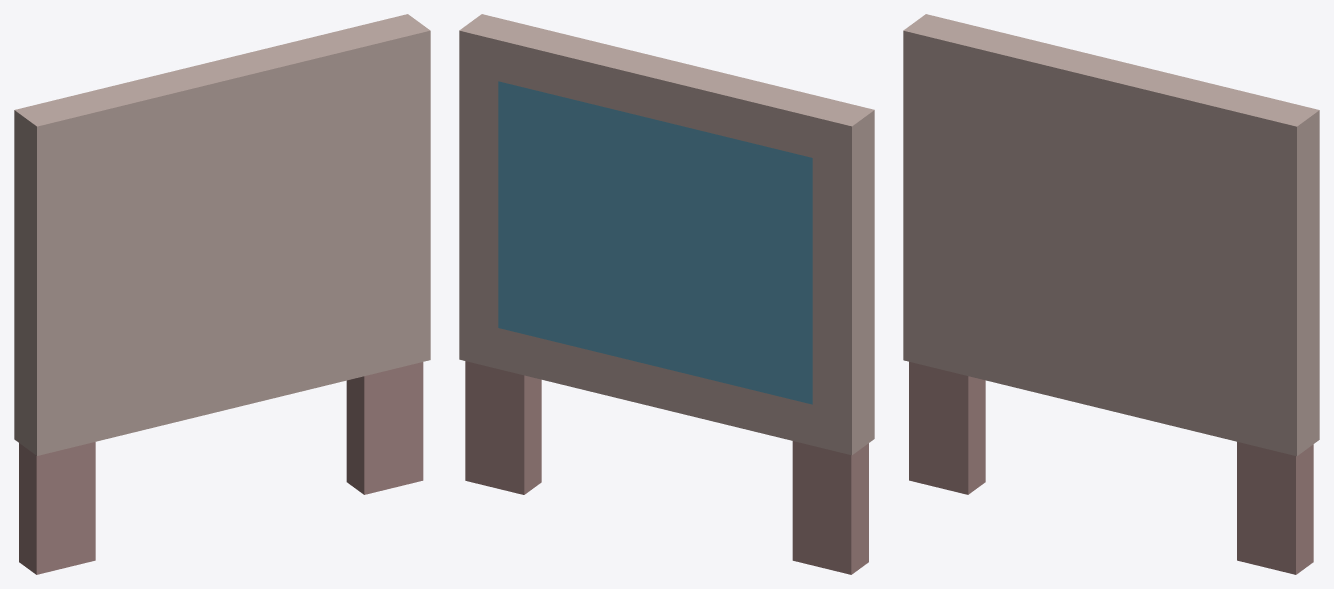
The model's file is sign_blue.fbx.
The picture shows the model from 3 angles, left to right: view 1: azimuth 30°, elevation 25°; view 2: azimuth 150°, elevation 25°; view 3: azimuth 330°, elevation 25°; orthographic projection.
Parts seen in each view (by area): view 1: sign_blue; view 2: sign_blue; view 3: sign_blue.
Part boxes in pixels (x1,y1,x2,y2): sign_blue: [14, 14, 430, 574]; sign_blue: [459, 14, 874, 574]; sign_blue: [903, 14, 1319, 574].
Bounding box in the file's own units: 100 × 10 × 110.
